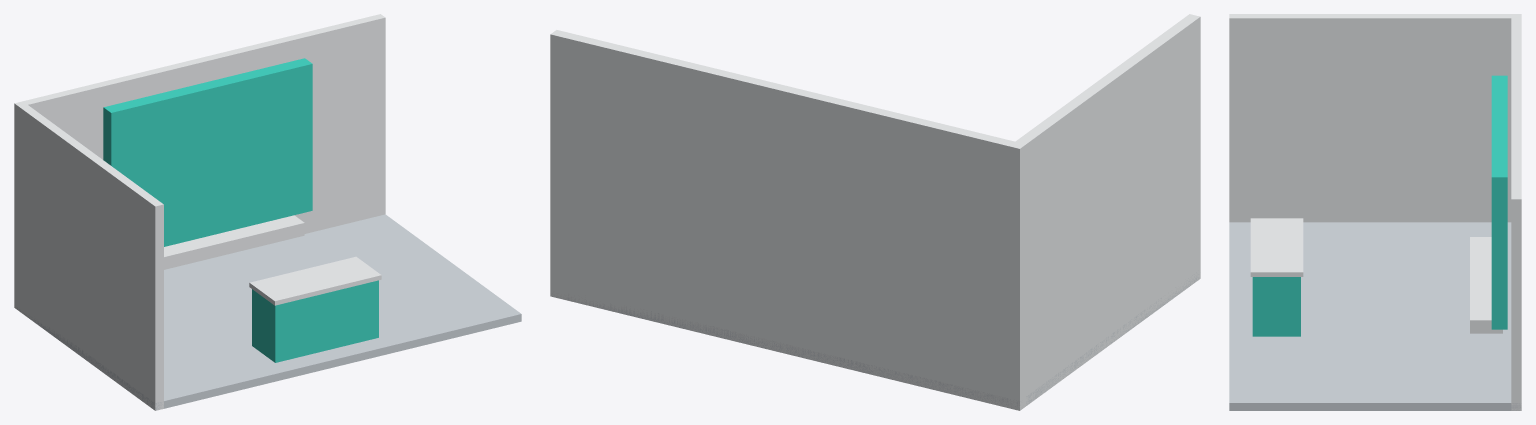
The picture shows the model from 3 angles, left to right: view 1: azimuth 30°, elevation 25°; view 2: azimuth 150°, elevation 25°; view 3: azimuth 270°, elevation 25°; orthographic projection. The views are drawn at different scales.
Parts seen in each view (by area): view 1: Exhibition Booth Concept; view 2: Exhibition Booth Concept; view 3: Exhibition Booth Concept.
Part boxes in pixels (x1,y1,x2,y2): Exhibition Booth Concept: (14,14,521,410); Exhibition Booth Concept: (550,14,1200,410); Exhibition Booth Concept: (1229,14,1521,410).
Bounding box in the file's own units: 6 × 3.2 × 4.
